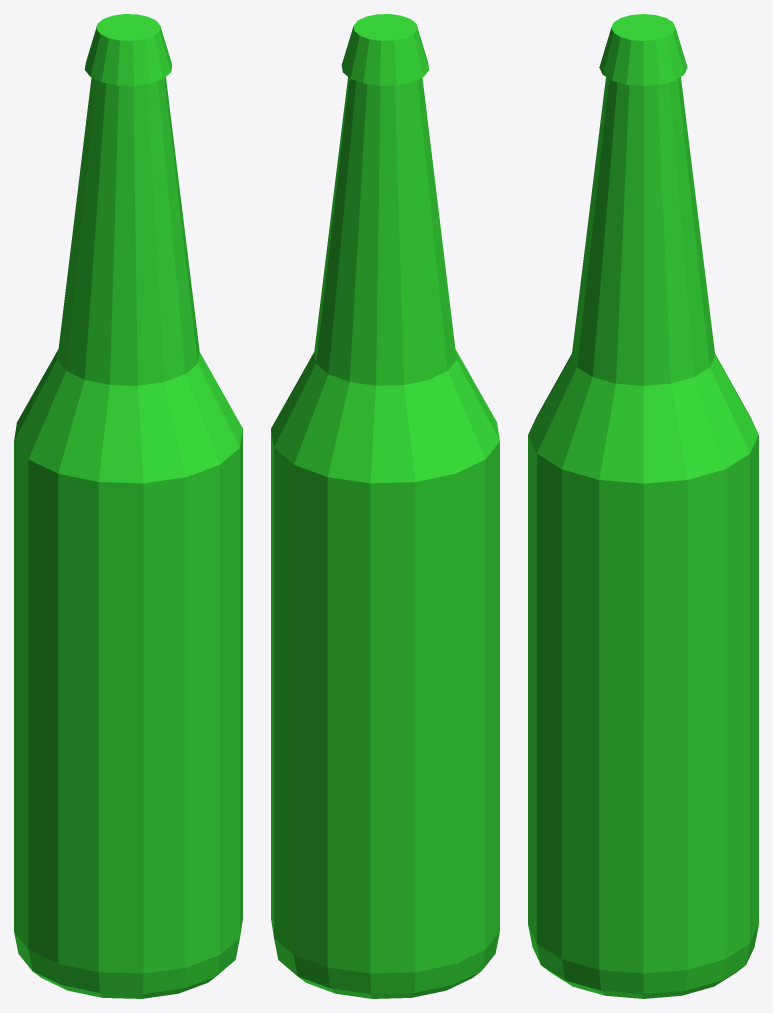
Rendered from Bottle.fbx.
3 renders of one model, left to right at view 1: azimuth 30°, elevation 25°; view 2: azimuth 150°, elevation 25°; view 3: azimuth 270°, elevation 25°, orthographic.
Visible parts, largest first — view 1: Bottle_Separate, Bottle_Separate.004, Bottle_Separate.002, Bottle_Separate.003, Bottle_Separate.001; view 2: Bottle_Separate, Bottle_Separate.004, Bottle_Separate.002, Bottle_Separate.003, Bottle_Separate.001; view 3: Bottle_Separate, Bottle_Separate.004, Bottle_Separate.002, Bottle_Separate.003, Bottle_Separate.001.
Part boxes in pixels (left/top/right/bottom): Bottle_Separate: left=14, top=675, right=242, bottom=998; Bottle_Separate.004: left=14, top=430, right=242, bottom=728; Bottle_Separate.002: left=57, top=77, right=199, bottom=385; Bottle_Separate.003: left=14, top=349, right=242, bottom=483; Bottle_Separate.001: left=84, top=14, right=172, bottom=85; Bottle_Separate: left=271, top=675, right=499, bottom=998; Bottle_Separate.004: left=271, top=430, right=499, bottom=728; Bottle_Separate.002: left=314, top=77, right=456, bottom=385; Bottle_Separate.003: left=271, top=349, right=499, bottom=483; Bottle_Separate.001: left=341, top=14, right=429, bottom=85; Bottle_Separate: left=528, top=680, right=758, bottom=998; Bottle_Separate.004: left=528, top=435, right=758, bottom=728; Bottle_Separate.002: left=571, top=77, right=715, bottom=385; Bottle_Separate.003: left=528, top=354, right=758, bottom=483; Bottle_Separate.001: left=599, top=14, right=687, bottom=86.
Size of the model in its own units: 200 by 888 by 200.
